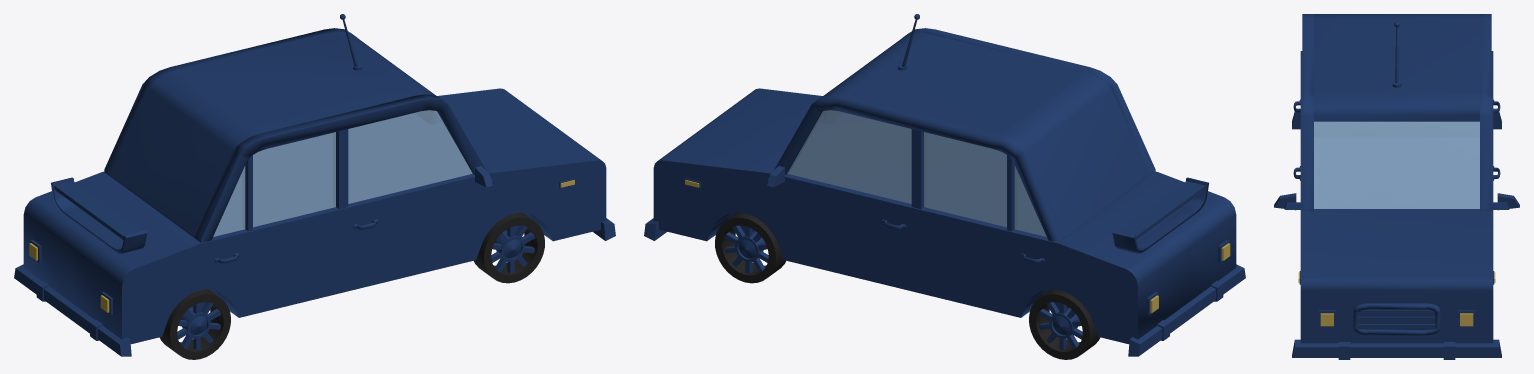
File: sedan.glb
3 views of the same model, side by side, from view 1: azimuth 30°, elevation 25°; view 2: azimuth 150°, elevation 25°; view 3: azimuth 270°, elevation 25° (orthographic). The views are drawn at different scales.
Visible parts, largest first — view 1: FourSeater, Roof, Glass, Frame (×4), Tire (×2), BackBumper, Spline, Cube, Rim (×2); view 2: FourSeater, Roof, Glass, Frame (×4), Tire (×2), BackBumper, Spline, Cube, Rim (×2); view 3: FourSeater, Roof, Glass, Frame (×6), FrontBumper, FrontLights (×2), Mirror (×2), Detail (×2), BackBumper.
Boxes of the visible parts, x1=… form: FourSeater: x1=23, y1=88, x2=606, y2=344; Roof: x1=110, y1=32, x2=440, y2=238; Glass: x1=213, y1=110, x2=472, y2=236; Frame (×4): x1=104, y1=28, x2=485, y2=242; Tire (×2): x1=159, y1=212, x2=544, y2=359; BackBumper: x1=14, y1=264, x2=131, y2=356; Spline: x1=51, y1=177, x2=147, y2=253; Cube: x1=54, y1=181, x2=141, y2=239; Rim (×2): x1=182, y1=234, x2=524, y2=338; FourSeater: x1=653, y1=88, x2=1236, y2=344; Roof: x1=819, y1=32, x2=1149, y2=238; Glass: x1=787, y1=110, x2=1046, y2=236; Frame (×4): x1=774, y1=28, x2=1155, y2=242; Tire (×2): x1=715, y1=212, x2=1100, y2=359; BackBumper: x1=1128, y1=264, x2=1245, y2=356; Spline: x1=1112, y1=177, x2=1208, y2=253; Cube: x1=1118, y1=181, x2=1205, y2=239; Rim (×2): x1=735, y1=234, x2=1077, y2=338; FourSeater: x1=1300, y1=51, x2=1493, y2=343; Roof: x1=1314, y1=14, x2=1479, y2=137; Glass: x1=1314, y1=121, x2=1479, y2=208; Frame (×6): x1=1302, y1=14, x2=1491, y2=335; FrontBumper: x1=1292, y1=339, x2=1501, y2=357; FrontLights (×2): x1=1318, y1=310, x2=1475, y2=327; Mirror (×2): x1=1274, y1=193, x2=1519, y2=210; Detail (×2): x1=1338, y1=342, x2=1455, y2=359; BackBumper: x1=1292, y1=111, x2=1501, y2=129.
Bounding box in the file's own units: 4.75 × 2.39 × 2.07.
